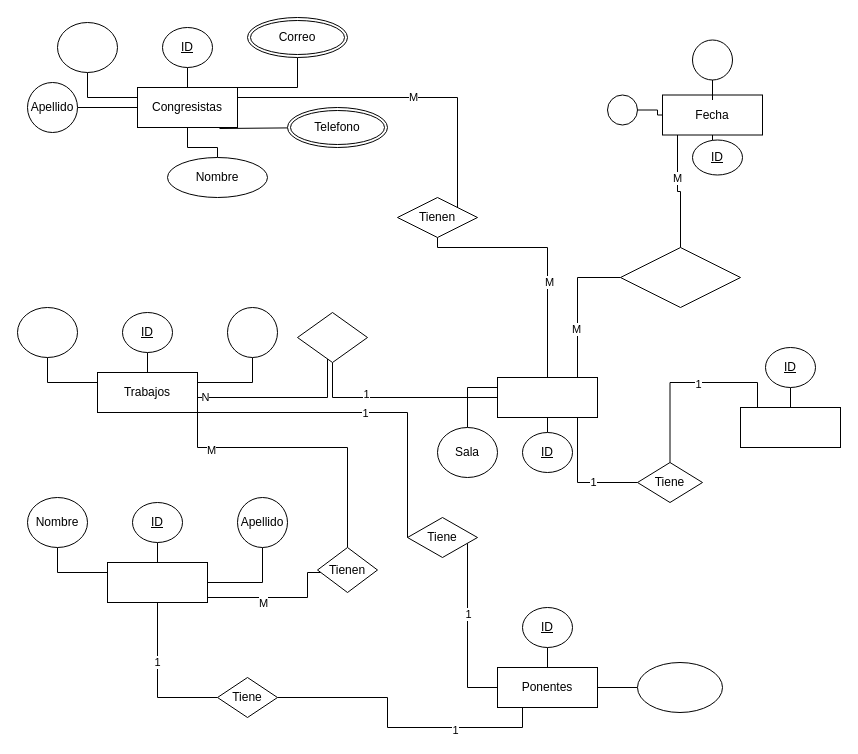
This 858x754 diagram has some shape labels left out. Each missing label, with the box of its shape:
Abstract: (226, 306, 278, 358)
Autores: (106, 562, 208, 602)
Chairman de la sesión: (740, 406, 840, 448)
Dia: (692, 39, 732, 80)
Hora: (606, 94, 638, 125)
Institucion: (56, 22, 118, 72)
Presentacion: (636, 662, 722, 712)
Relationship: (620, 246, 740, 308)
Sesiones del congreso: (496, 376, 598, 418)
Tiener: (296, 312, 368, 362)
Titulo: (16, 306, 78, 358)
